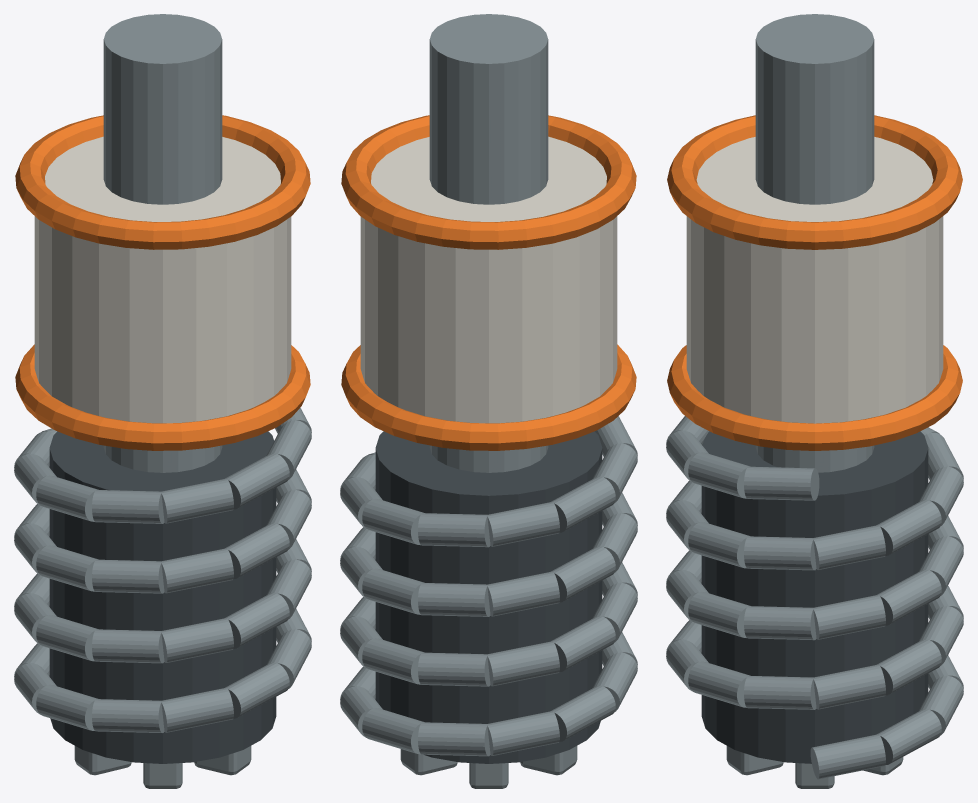
File: SM_RareMineralMine_Drill.fbx
3 views of the same model, side by side, from view 1: azimuth 30°, elevation 25°; view 2: azimuth 150°, elevation 25°; view 3: azimuth 270°, elevation 25° (orthographic).
Visible parts, largest first — view 1: SM_RareMineralMine_Drill.001; view 2: SM_RareMineralMine_Drill.001; view 3: SM_RareMineralMine_Drill.001.
Part boxes in pixels (x1,y1,x2,y2): SM_RareMineralMine_Drill.001: [14, 14, 311, 788]; SM_RareMineralMine_Drill.001: [340, 14, 637, 788]; SM_RareMineralMine_Drill.001: [666, 14, 963, 788].
Size of the model in its own units: 60.38 by 60.38 by 160.
